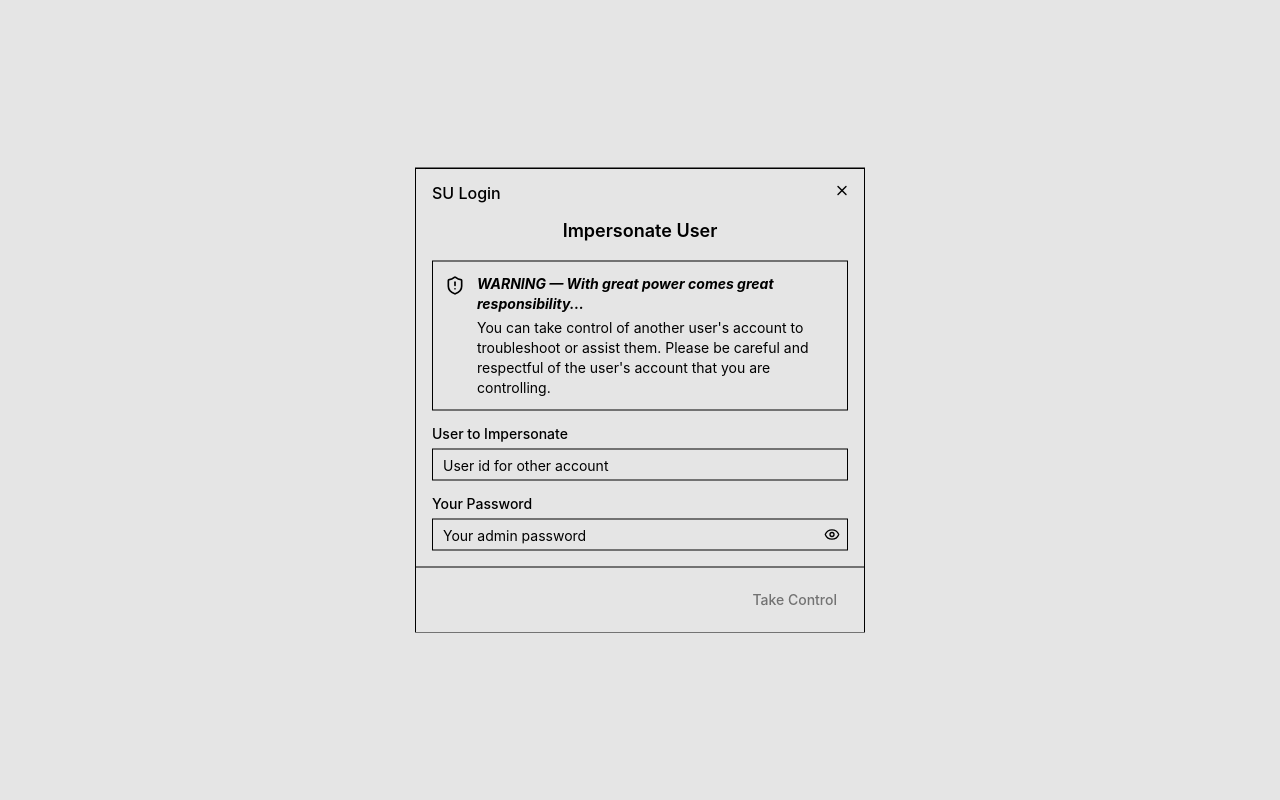
SuLoginDialog › shows and hides the admin password with a toggle
Type "s3cret" into the password field labelled "Your Password".
click(626, 534); type("s3cret")  # box [433,518,820,550]
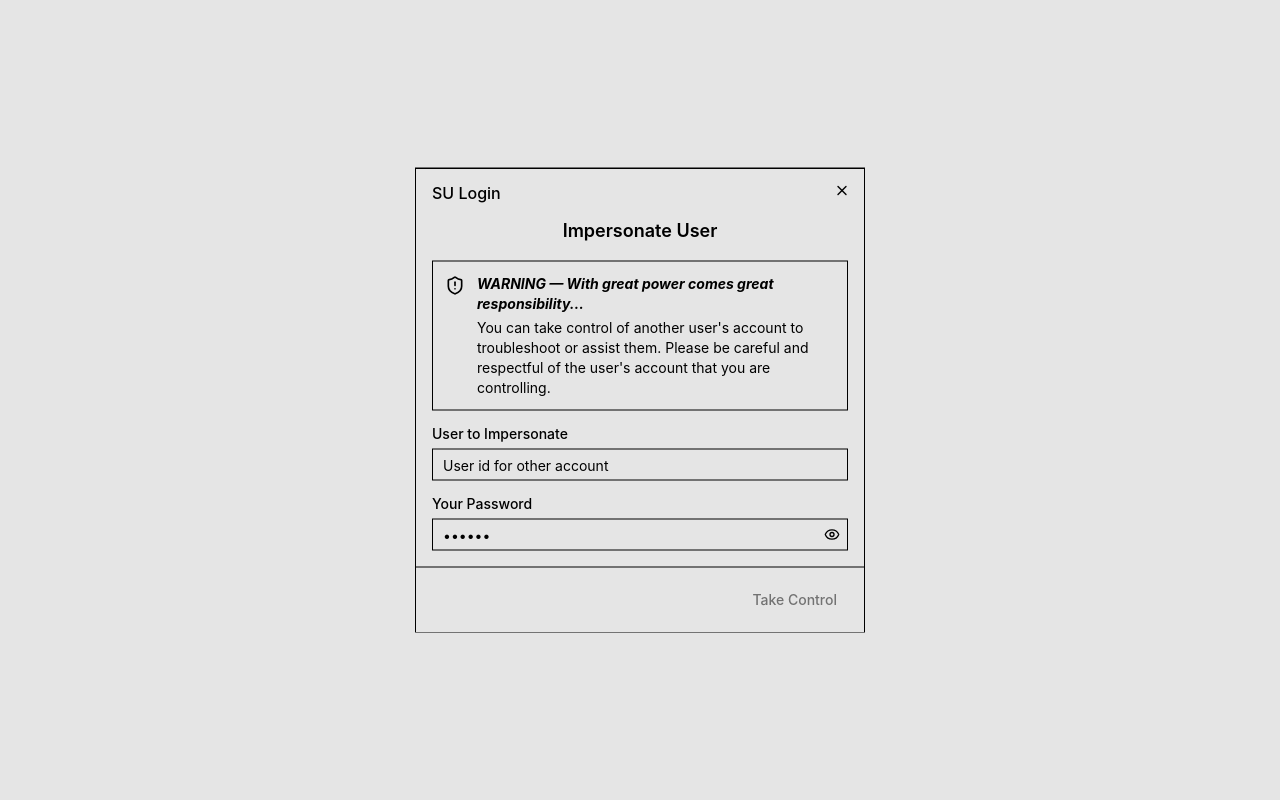
Click the button named "Show password".
click(832, 534)  # box [820,522,844,546]
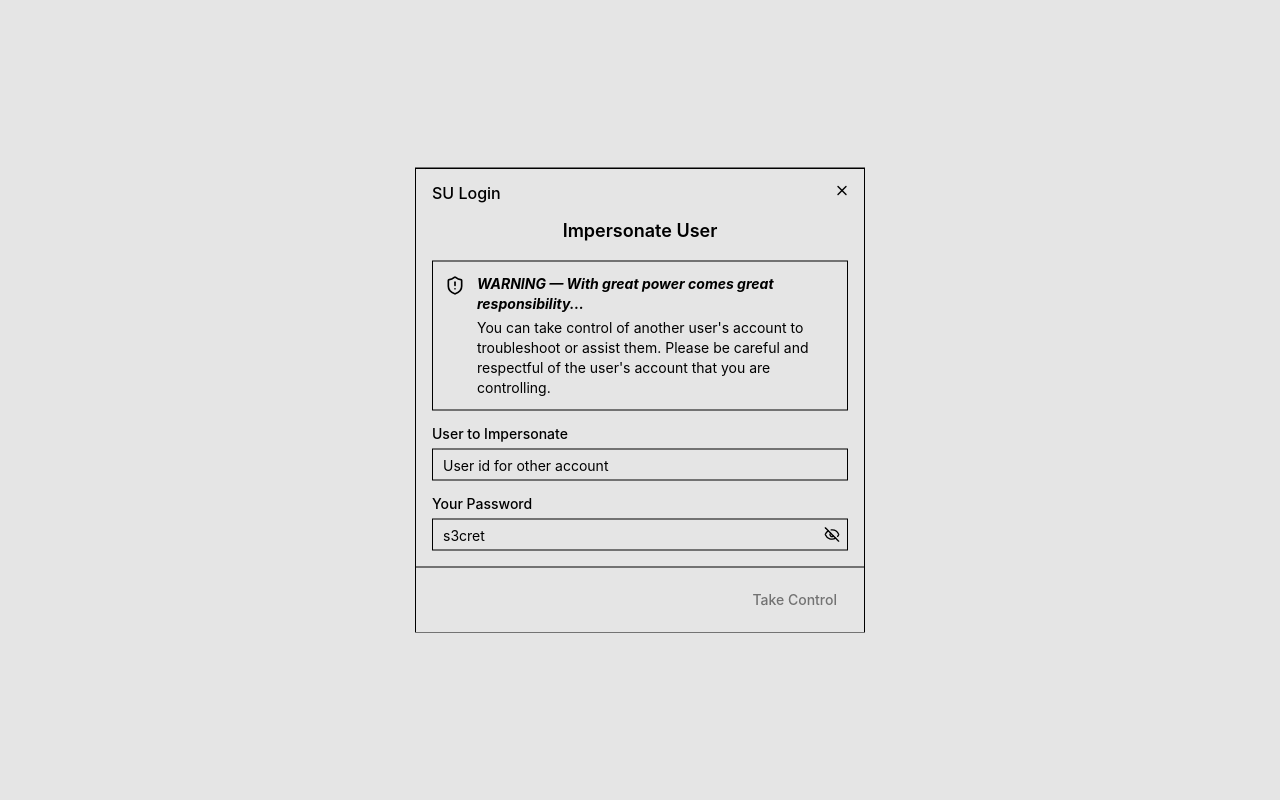
Check: the field labelled "Your Password" shows its text, box [433,518,820,550]
Click the button named "Hide password".
click(832, 534)  # box [820,522,844,546]
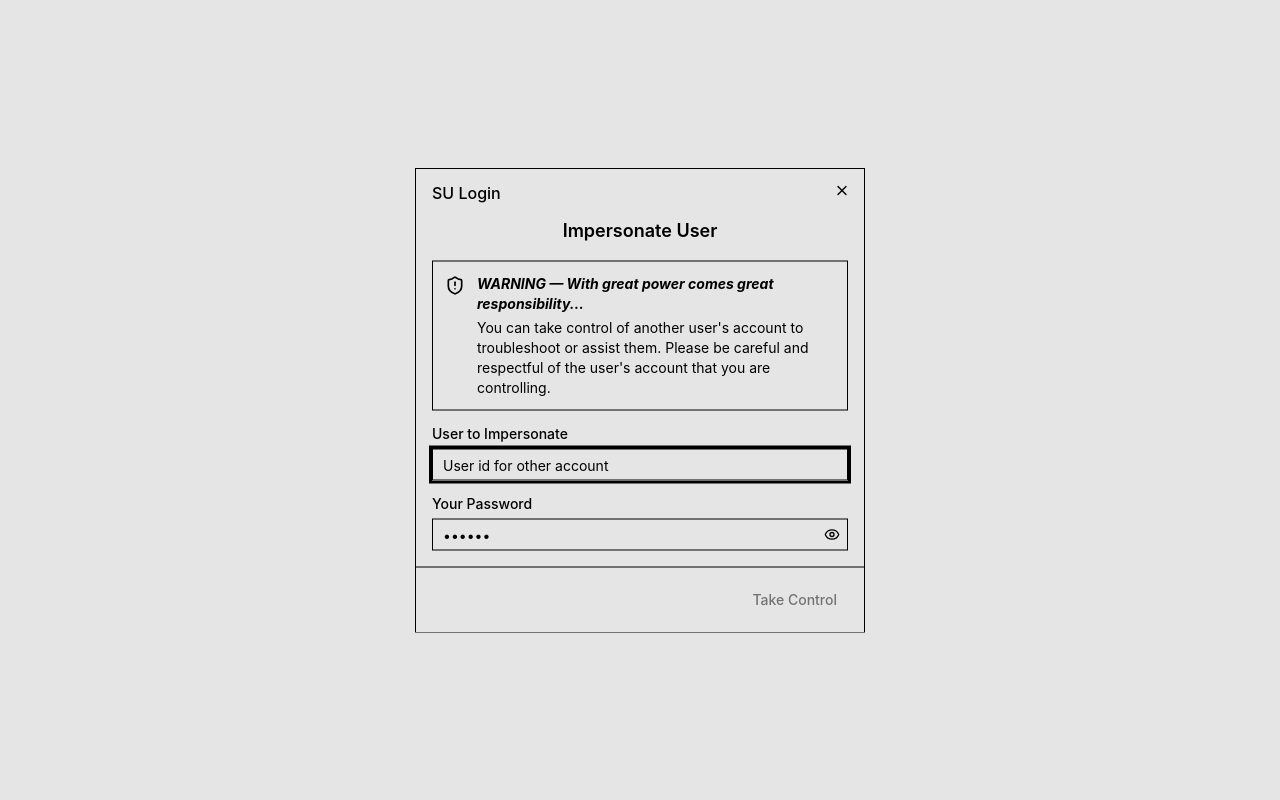
Check: the password field labelled "Your Password" hides its text, box [433,518,820,550]
